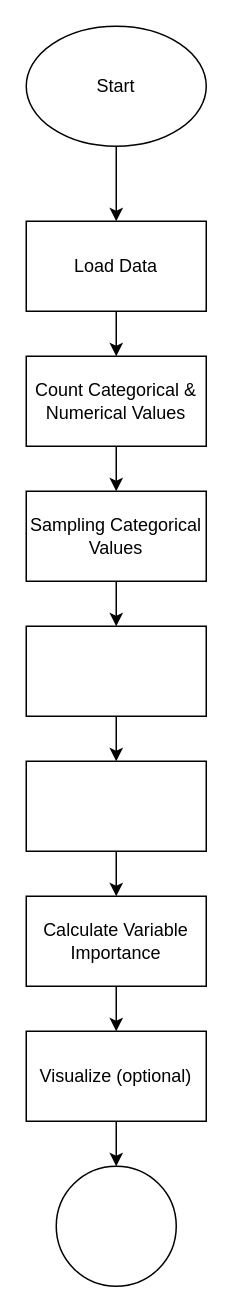
Image size: 233x1313. Some labels were removed from this diagram. The shapes that lost their labels are listed below. From the top down, each one's centre as x and y in pixels, then its label:
(115,670): Choose Target Value
(115,805): Hot Encoding
(115,1225): End
